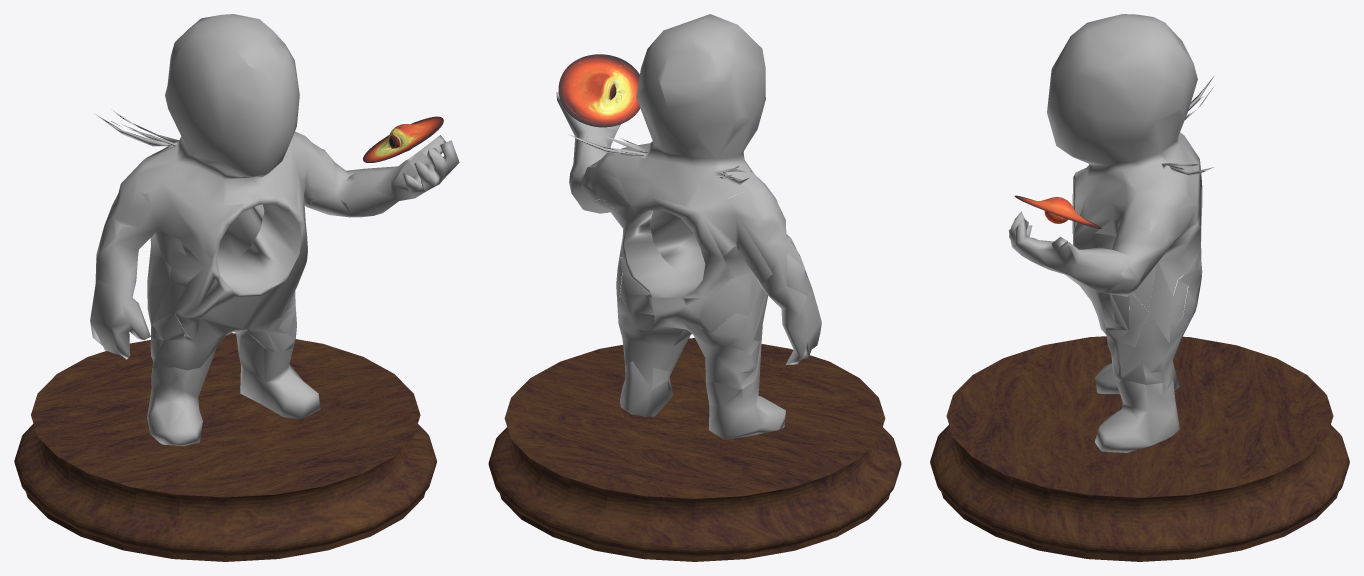
The model's file is gravitus.glb.
3 views of the same model, side by side, from view 1: azimuth 30°, elevation 25°; view 2: azimuth 150°, elevation 25°; view 3: azimuth 270°, elevation 25° (orthographic). The views are drawn at different scales.
Visible parts, largest first — view 1: tripo_node_ab8d4de5-dc12-437d-aef7-193e73052395, BézierCurve, tripo_node_186dfda1-d97f-4d9f-9aa2-da5b2d1774f3; view 2: BézierCurve, tripo_node_ab8d4de5-dc12-437d-aef7-193e73052395, tripo_node_186dfda1-d97f-4d9f-9aa2-da5b2d1774f3; view 3: BézierCurve, tripo_node_ab8d4de5-dc12-437d-aef7-193e73052395, tripo_node_186dfda1-d97f-4d9f-9aa2-da5b2d1774f3.
Part boxes in pixels (x1=…): tripo_node_ab8d4de5-dc12-437d-aef7-193e73052395: x1=90, y1=14, x2=459, y2=445; BézierCurve: x1=14, y1=333, x2=436, y2=561; tripo_node_186dfda1-d97f-4d9f-9aa2-da5b2d1774f3: x1=363, y1=116, x2=443, y2=162; BézierCurve: x1=488, y1=338, x2=901, y2=561; tripo_node_ab8d4de5-dc12-437d-aef7-193e73052395: x1=556, y1=14, x2=821, y2=439; tripo_node_186dfda1-d97f-4d9f-9aa2-da5b2d1774f3: x1=558, y1=54, x2=640, y2=127; BézierCurve: x1=930, y1=336, x2=1349, y2=561; tripo_node_ab8d4de5-dc12-437d-aef7-193e73052395: x1=1008, y1=14, x2=1213, y2=452; tripo_node_186dfda1-d97f-4d9f-9aa2-da5b2d1774f3: x1=1014, y1=195, x2=1101, y2=228.
Bounding box in the file's own units: 0.9545 × 1.15 × 0.9545.
Materials: 3 (3 with a texture image).
